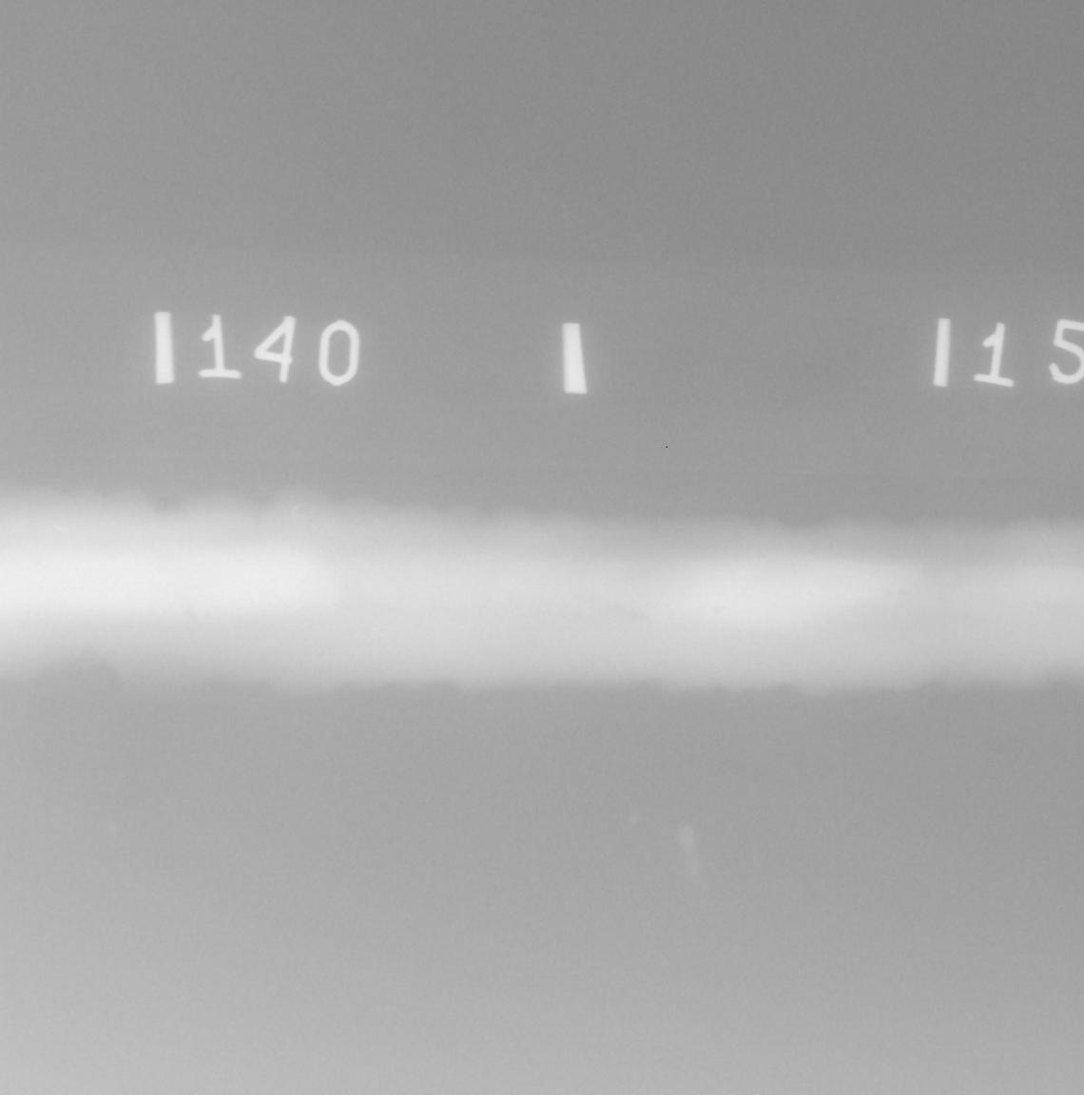Inclusion: (888, 589, 896, 595), (873, 569, 879, 576), (895, 575, 898, 578), (884, 569, 888, 571)
Pore/Porosity: (711, 606, 722, 616), (901, 591, 906, 595), (186, 611, 190, 614)
